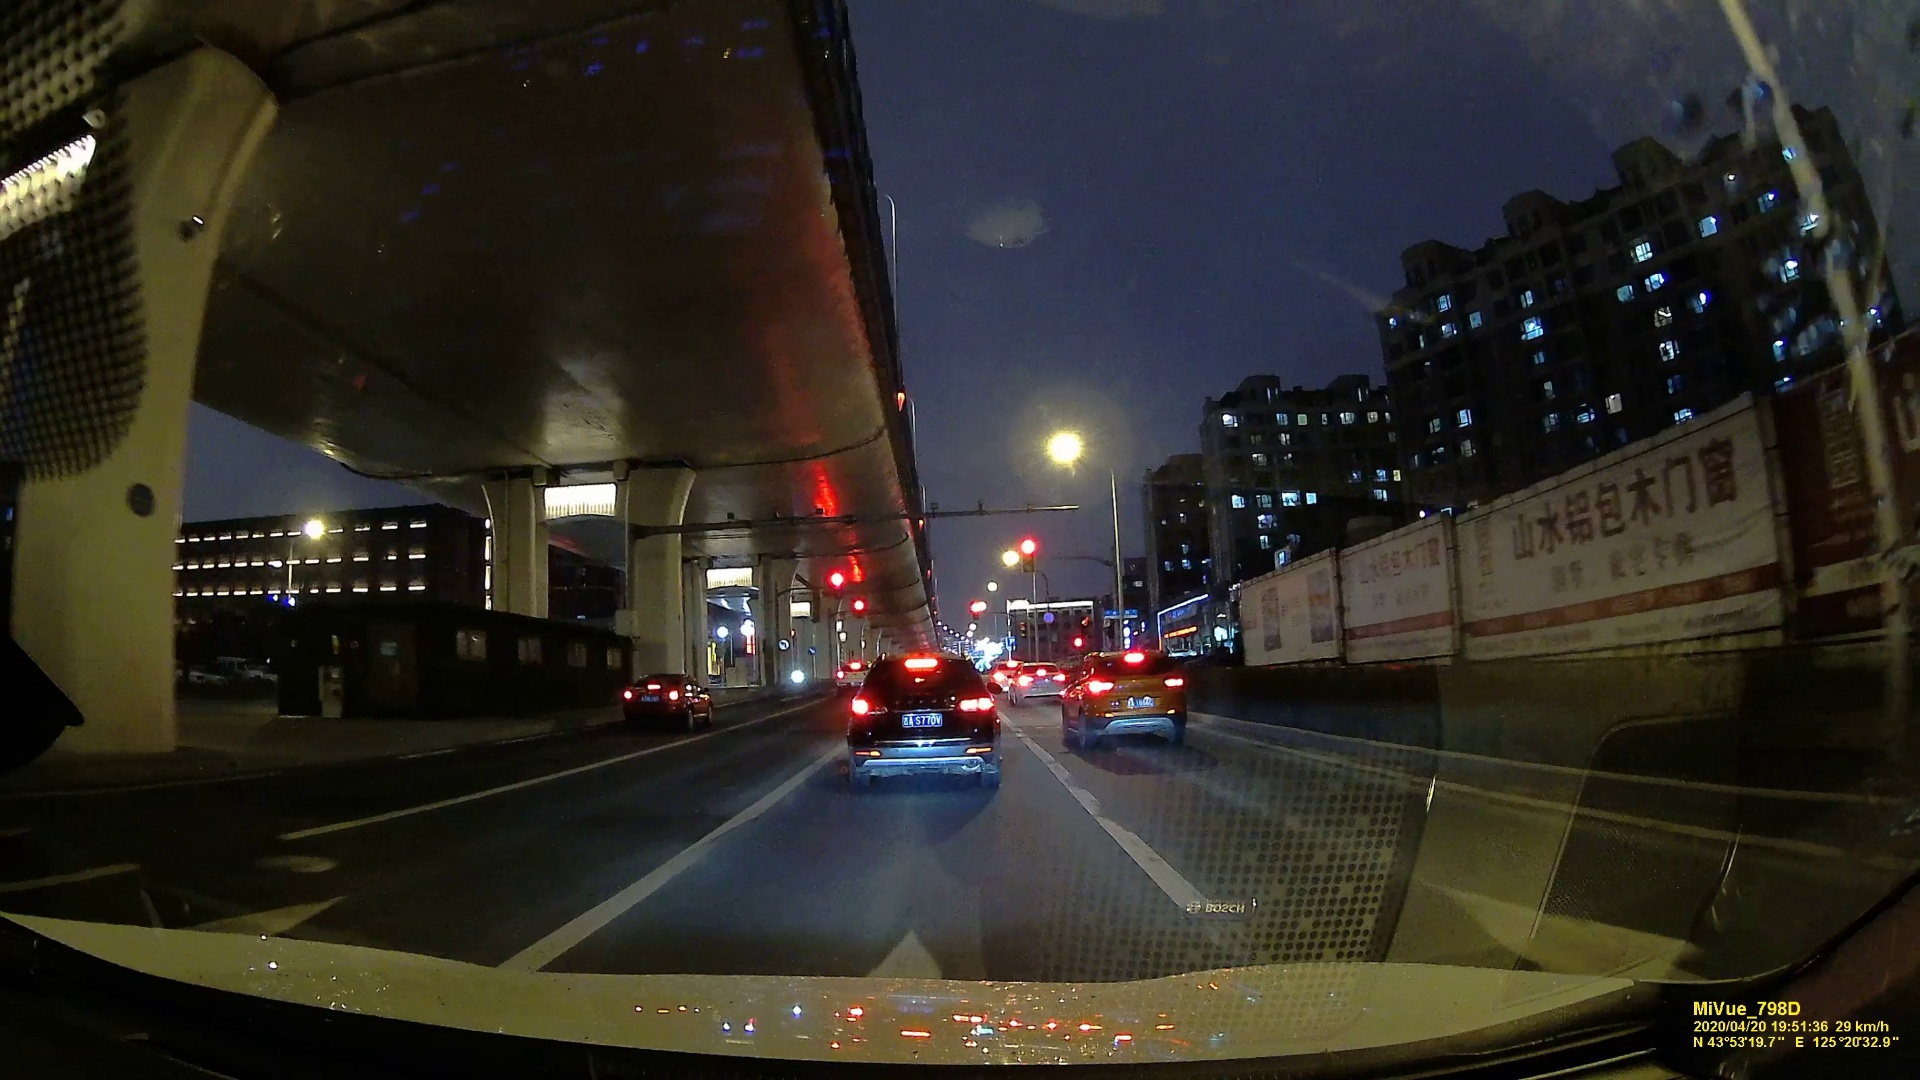traffic_sign: (1021, 538, 1038, 571), (847, 593, 864, 624)
vehicle: (841, 644, 1004, 795), (1063, 645, 1192, 746), (618, 670, 713, 725), (1006, 661, 1062, 702)
